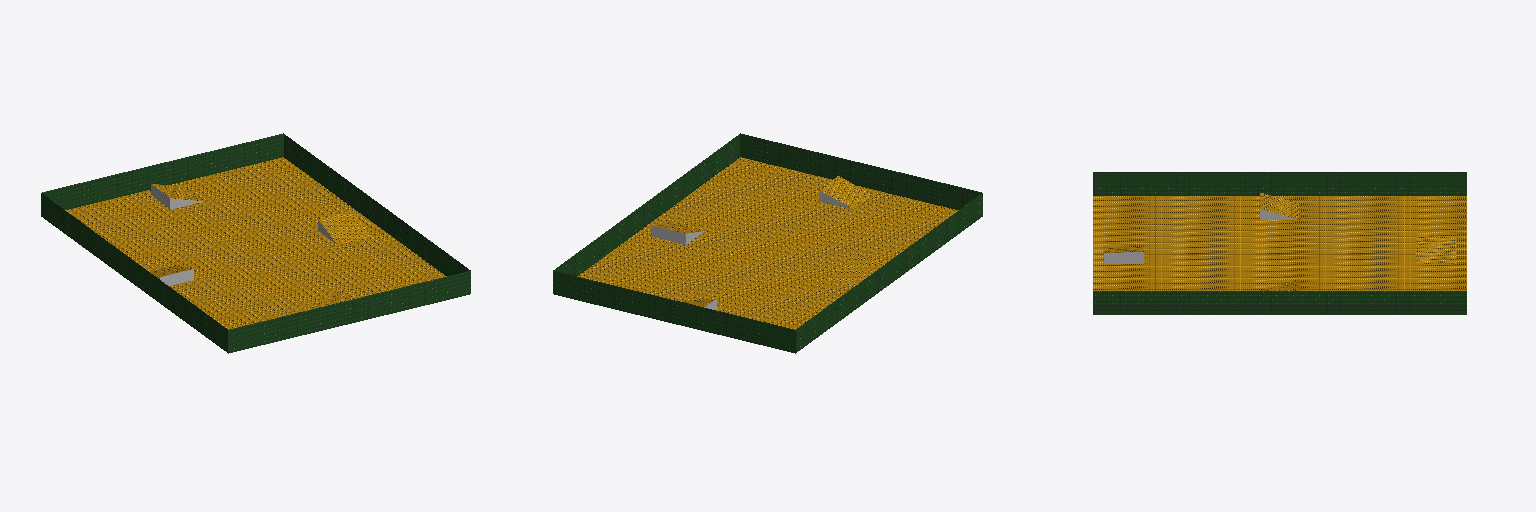
The picture shows the model from 3 angles: view 1: azimuth 30°, elevation 25°; view 2: azimuth 150°, elevation 25°; view 3: azimuth 270°, elevation 25°; orthographic projection.
Parts seen in each view (by area): view 1: Plane.002, Plane, Cube.002, Cube.003; view 2: Plane.002, Plane, Cube.002, Cube.003; view 3: Plane.002, Plane, Cube.003, Cube.002.
Part boxes in pixels (bbox=[...]): Plane.002: bbox=[65, 157, 446, 329]; Plane: bbox=[41, 133, 470, 353]; Cube.002: bbox=[150, 211, 371, 285]; Cube.003: bbox=[151, 184, 352, 309]; Plane.002: bbox=[577, 157, 958, 329]; Plane: bbox=[553, 133, 982, 353]; Cube.002: bbox=[652, 222, 883, 285]; Cube.003: bbox=[683, 176, 871, 309]; Plane.002: bbox=[1093, 196, 1466, 290]; Plane: bbox=[1093, 172, 1466, 314]; Cube.003: bbox=[1104, 236, 1455, 263]; Cube.002: bbox=[1260, 193, 1299, 290].
Size of the model in its own units: 45.31 by 8.7 by 60.63.
Materials: 3 (2 with a texture image).